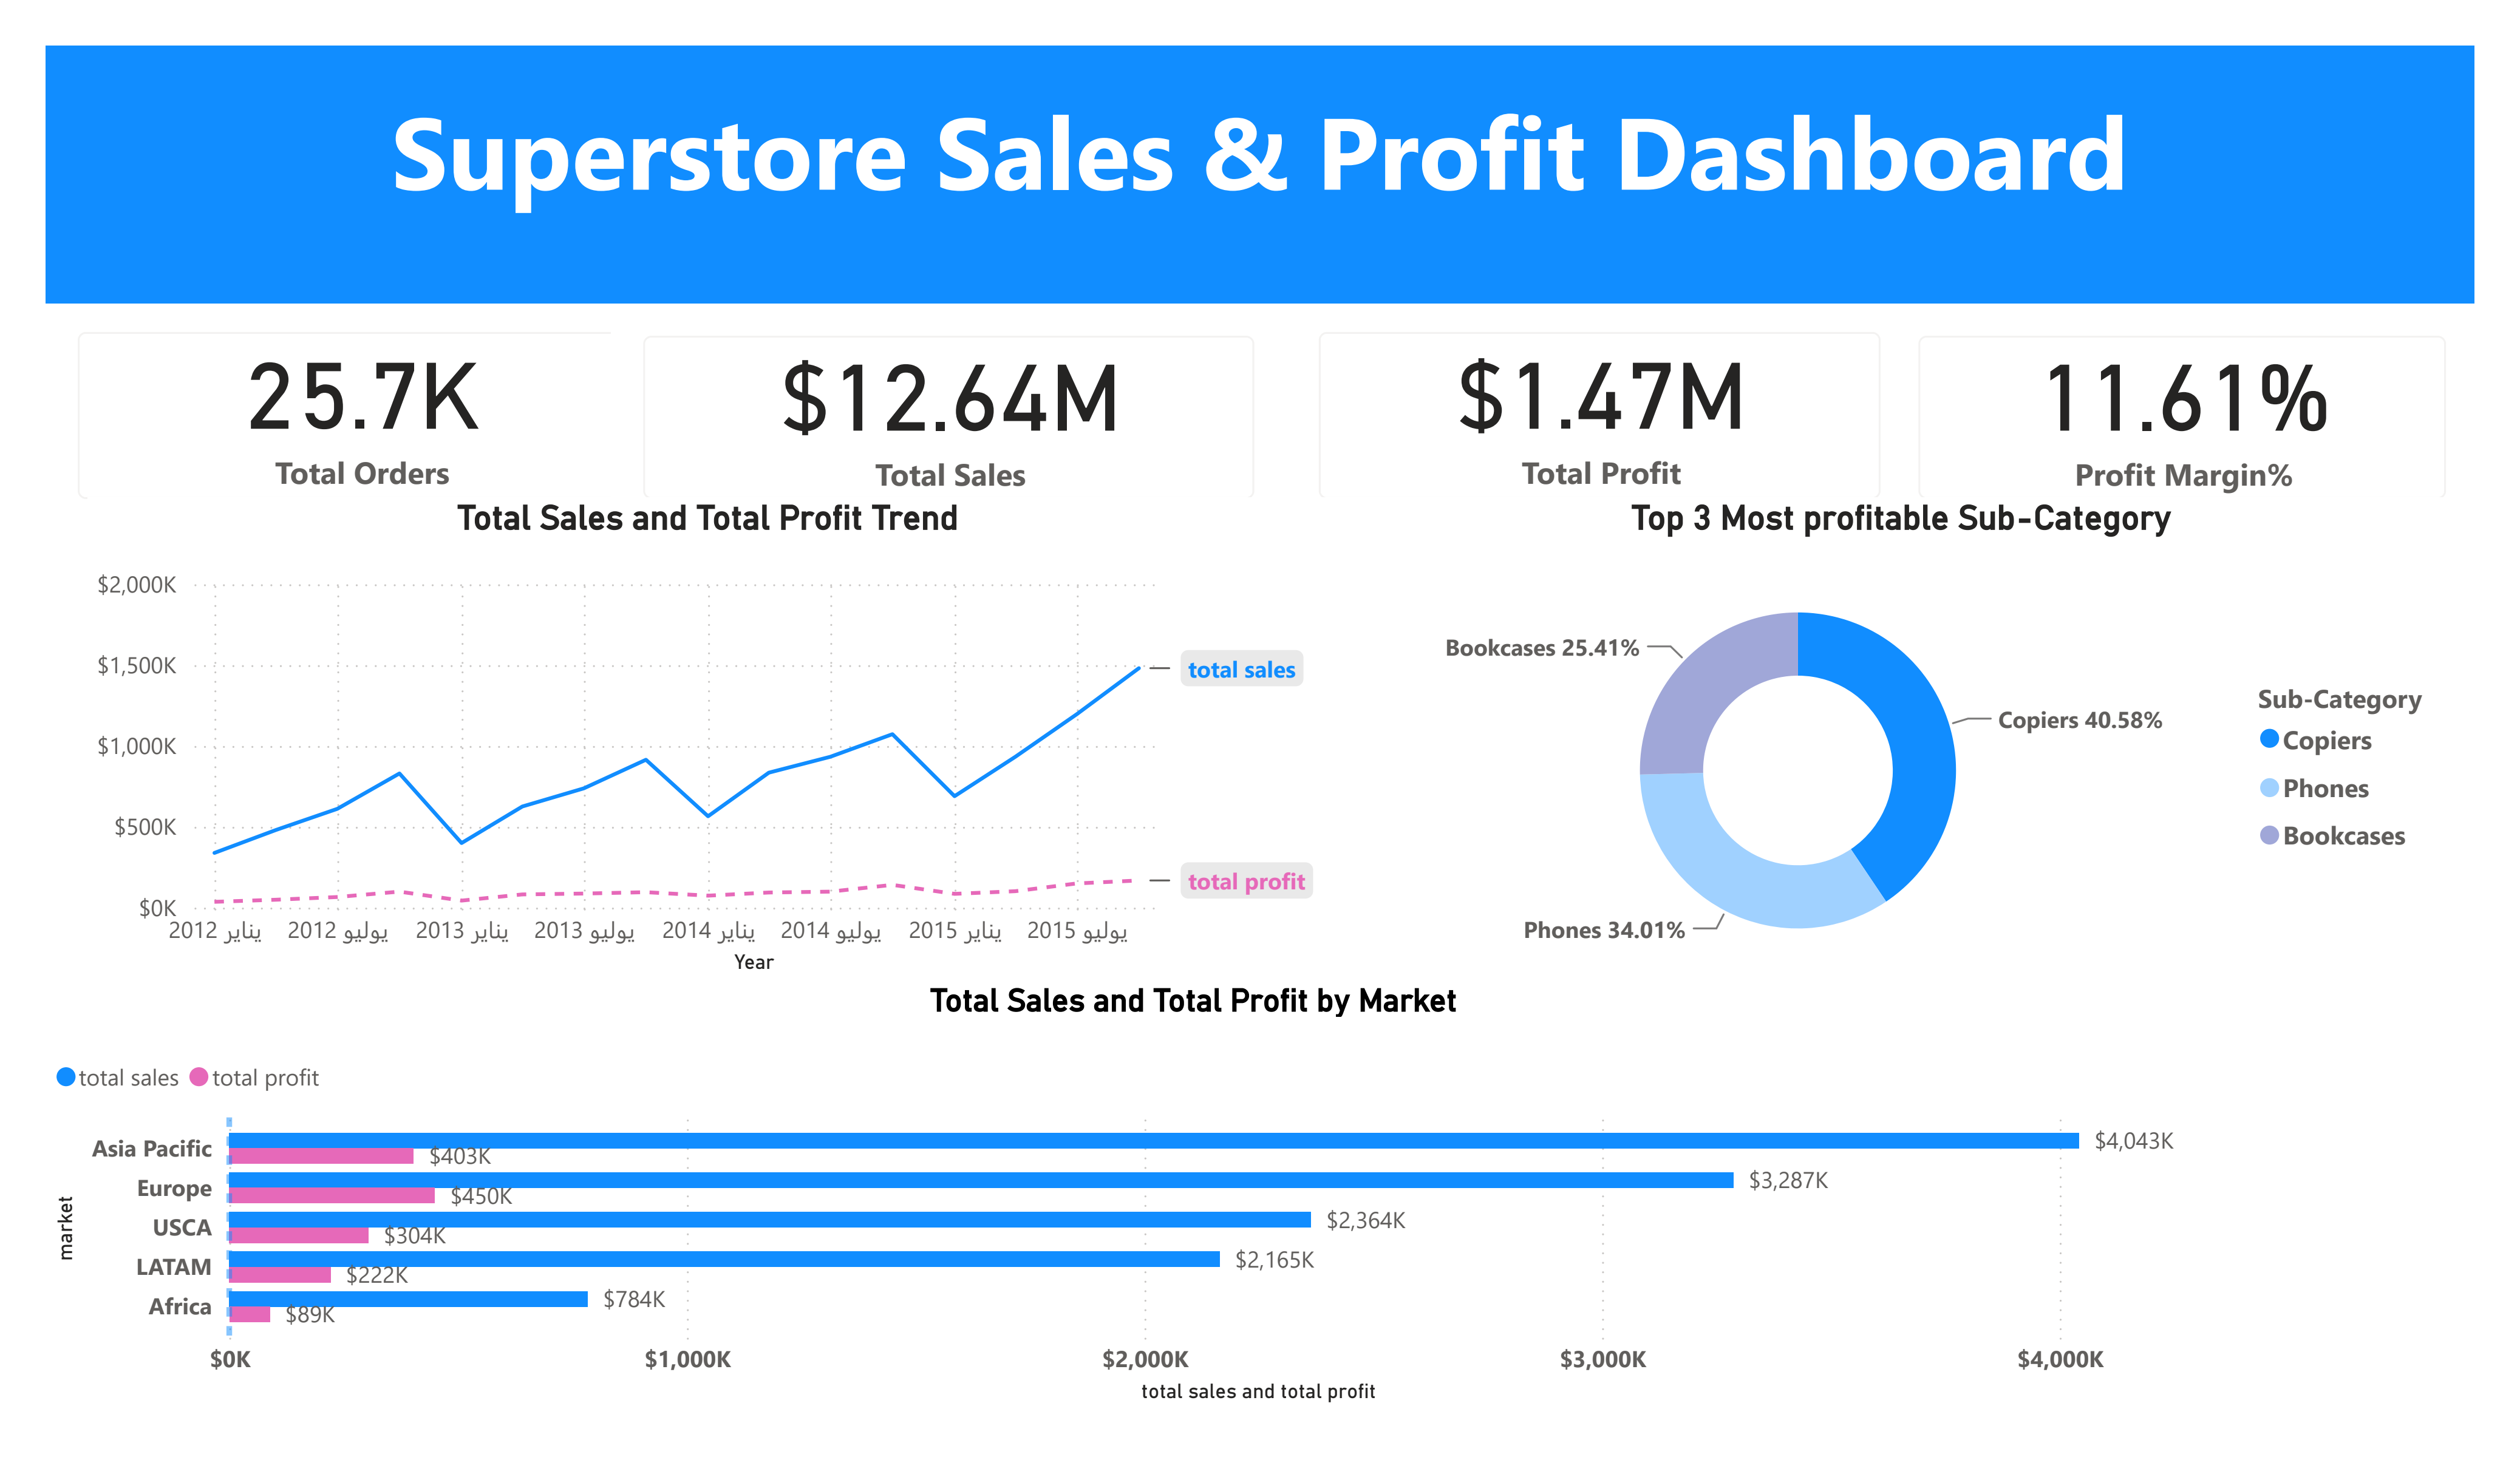

The dashboard page shown, as its layout file describes it:
{"tool":"powerbi","page":{"name":"profit and sales","canvas":[1280,720],"ordinal":0},"visuals":[{"type":"cardVisual","fields":{"Data":["Fact Sales.total orders"]},"box":[0,134,332,122],"z":0},{"type":"cardVisual","fields":{"Data":["Fact Sales.total sales"]},"box":[298,136,356,120],"z":1000},{"type":"cardVisual","fields":{"Data":["Fact Sales.total profit"]},"box":[654,134,330,122],"z":2000},{"type":"cardVisual","fields":{"Data":["Fact Sales.profit margin%"]},"box":[970,136,312,120],"z":3000},{"type":"clusteredBarChart","title":"Total Sales and Total Profit by Market","fields":{"Category":["Dim Customer.market"],"Y":["Fact Sales.total sales","Fact Sales.total profit"]},"box":[0,494,1280,226],"z":4000},{"type":"textbox","box":[0,0,1280.3,136.2],"z":5000},{"type":"lineChart","title":"Total Sales and Total Profit Trend","fields":{"Y":["Fact Sales.total sales","Fact Sales.total profit"],"Category":["Dim Order Date.Date.Variation.Date Hierarchy.Year","Dim Order Date.Date.Variation.Date Hierarchy.Quarter","Dim Order Date.Date.Variation.Date Hierarchy.Month","Dim Order Date.Date.Variation.Date Hierarchy.Day"]},"box":[22,238,654,256],"z":6000},{"type":"donutChart","title":"Top 3 Most profitable  Sub-Category","fields":{"Category":["Dim Product.Sub-Category"],"Y":["Fact Sales.total profit"]},"box":[676,238,604,256],"z":7000}]}

Visuals, with their boxes on the page's 1280x720 design canvas (x1, y1, x2, y2). These are canvas units, not pixel positions in the 2520x1457 screenshot, which may show the page scaled, cropped or inside an application window:
cardVisual - Fact Sales.total orders: (0, 134, 332, 256)
cardVisual - Fact Sales.total sales: (298, 136, 654, 256)
cardVisual - Fact Sales.total profit: (654, 134, 984, 256)
cardVisual - Fact Sales.profit margin%: (970, 136, 1282, 256)
"Total Sales and Total Profit by Market" clusteredBarChart: (0, 494, 1280, 720)
textbox: (0, 0, 1280, 136)
"Total Sales and Total Profit Trend" lineChart: (22, 238, 676, 494)
"Top 3 Most profitable  Sub-Category" donutChart: (676, 238, 1280, 494)
